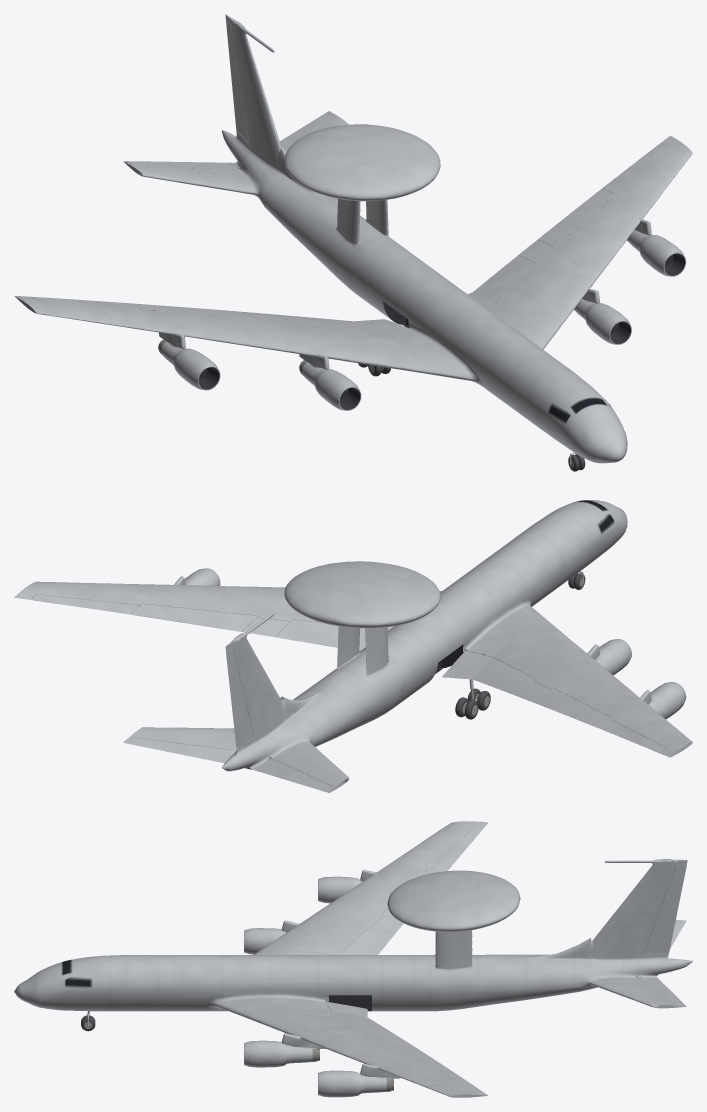
3 renders of one model, top to bottom at view 1: azimuth 30°, elevation 25°; view 2: azimuth 150°, elevation 25°; view 3: azimuth 270°, elevation 25°, orthographic. The views are drawn at different scales.
Visible parts, largest first — view 1: airframe, fsim:flaps (×4), fsim:rudder; view 2: airframe, fsim:flaps (×4), fsim:aileron (×3), fsim:elevator (×2), fsim:rudder; view 3: airframe, fsim:flaps (×3), fsim:rudder, fsim:aileron, fsim:elevator.
Part boxes in pixels (x1,y1,x2,y2): airframe: (14, 14, 692, 463); fsim:flaps (×4): (130, 188, 613, 329); fsim:rudder: (226, 20, 248, 142); airframe: (14, 500, 692, 792); fsim:flaps (×4): (130, 604, 613, 729); fsim:aileron (×3): (31, 594, 666, 753); fsim:elevator (×2): (127, 738, 332, 792); fsim:rudder: (226, 648, 253, 747); airframe: (14, 821, 692, 1097); fsim:flaps (×3): (325, 929, 446, 1067); fsim:rudder: (643, 865, 686, 953); fsim:aileron: (431, 828, 482, 870); fsim:elevator: (636, 977, 685, 1005).
Bounding box in the file's own units: 44.44 × 12.89 × 46.61.
6 materials, 1 textured.
